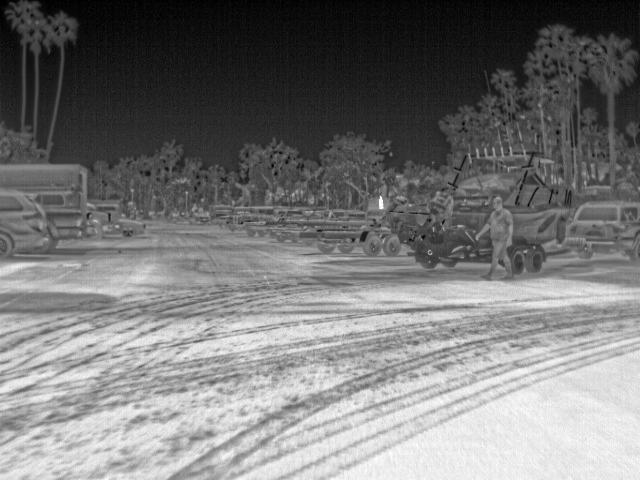car: (0, 163, 88, 238), (565, 200, 637, 260), (0, 189, 56, 255), (115, 218, 147, 238), (84, 212, 106, 238)
person: (474, 193, 518, 282)
